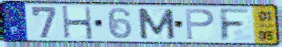6: (106, 6, 134, 41)
7: (29, 5, 59, 40)
F: (218, 7, 252, 42)
H: (60, 5, 95, 41)
M: (135, 7, 177, 40)
P: (184, 7, 216, 41)
